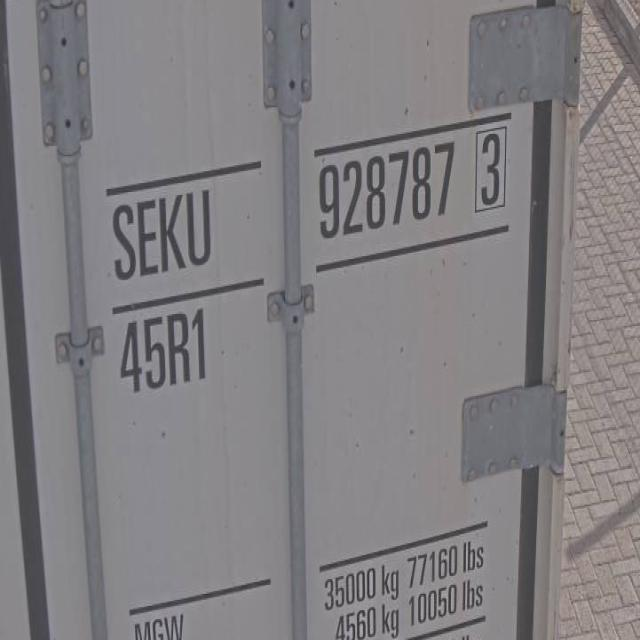dv: (470, 118, 513, 218)
owner: (102, 180, 218, 295)
serial: (312, 133, 460, 248)
size: (112, 306, 214, 395)
